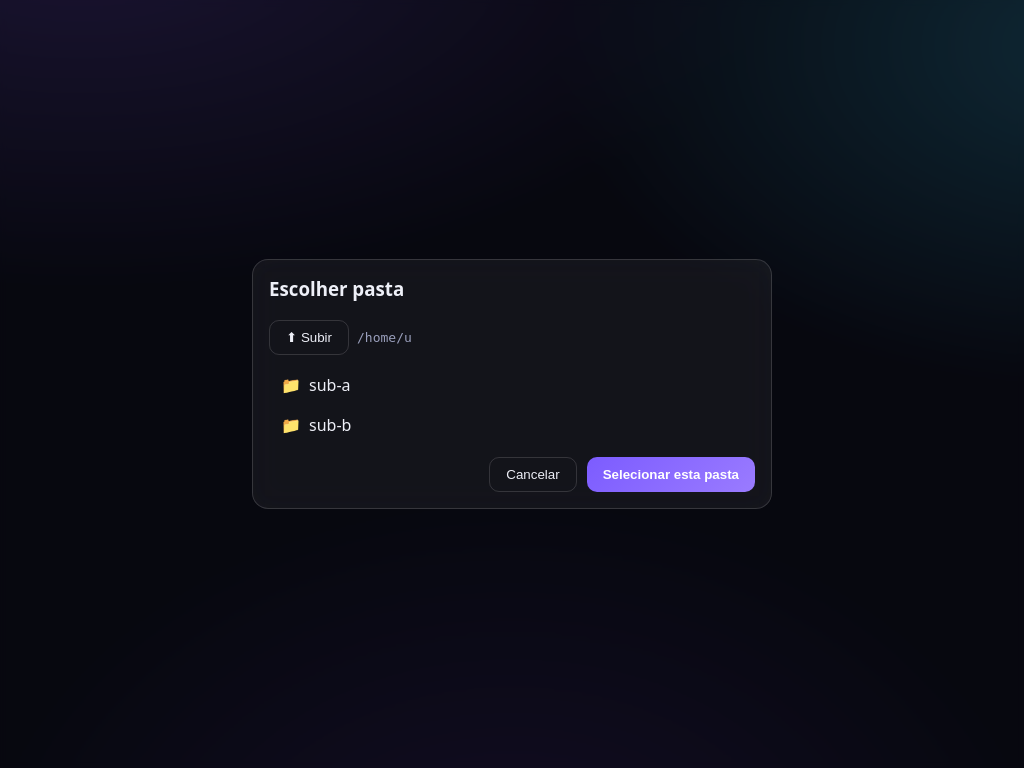
Test case: FolderPicker › erro de navegação mostra a mensagem e mantém a lista anterior
Expected: the text "sub-a" is shown, 309,374 -> 350,396
Click the text "sub-b" at [330, 425], box 309,414 -> 351,436
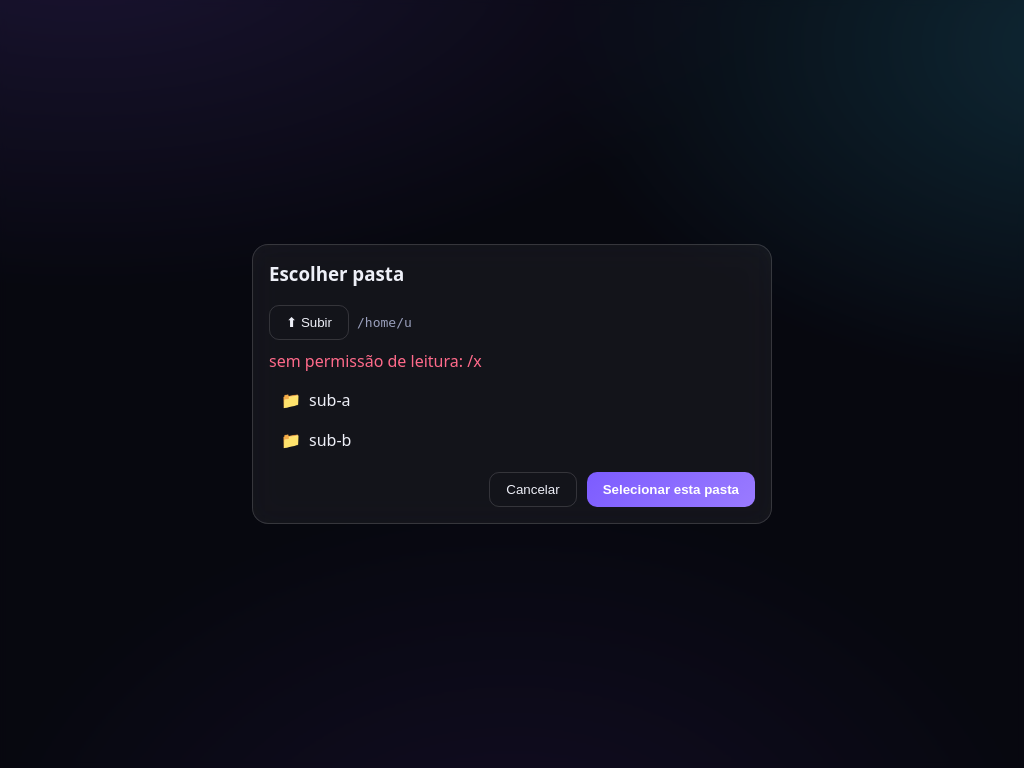
Expected: the text "sub-a" is shown, 309,389 -> 350,411
Expected: the text "sem permissão de leitura: /x" is shown, 269,350 -> 482,372
